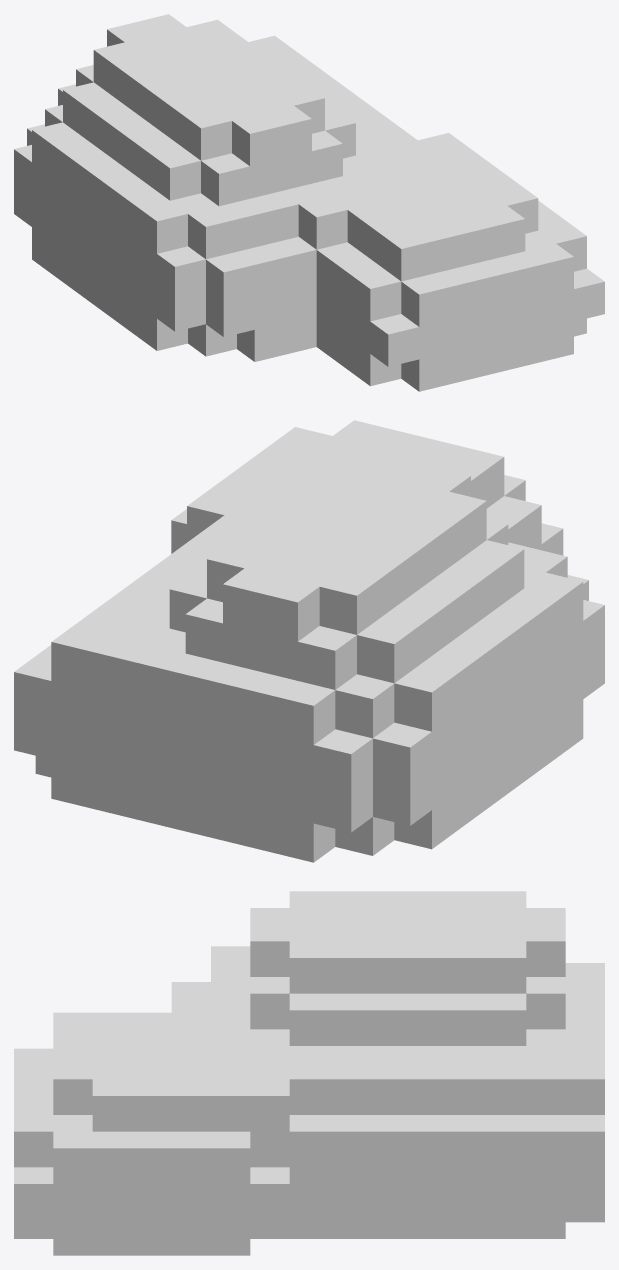
File: cloud1.obj
3 views of the same model, one above another, from view 1: azimuth 30°, elevation 25°; view 2: azimuth 150°, elevation 25°; view 3: azimuth 270°, elevation 25° (orthographic). The views are drawn at different scales.
Size of the model in its own units: 1.1 by 0.6 by 1.5.
1 material, 1 textured.
